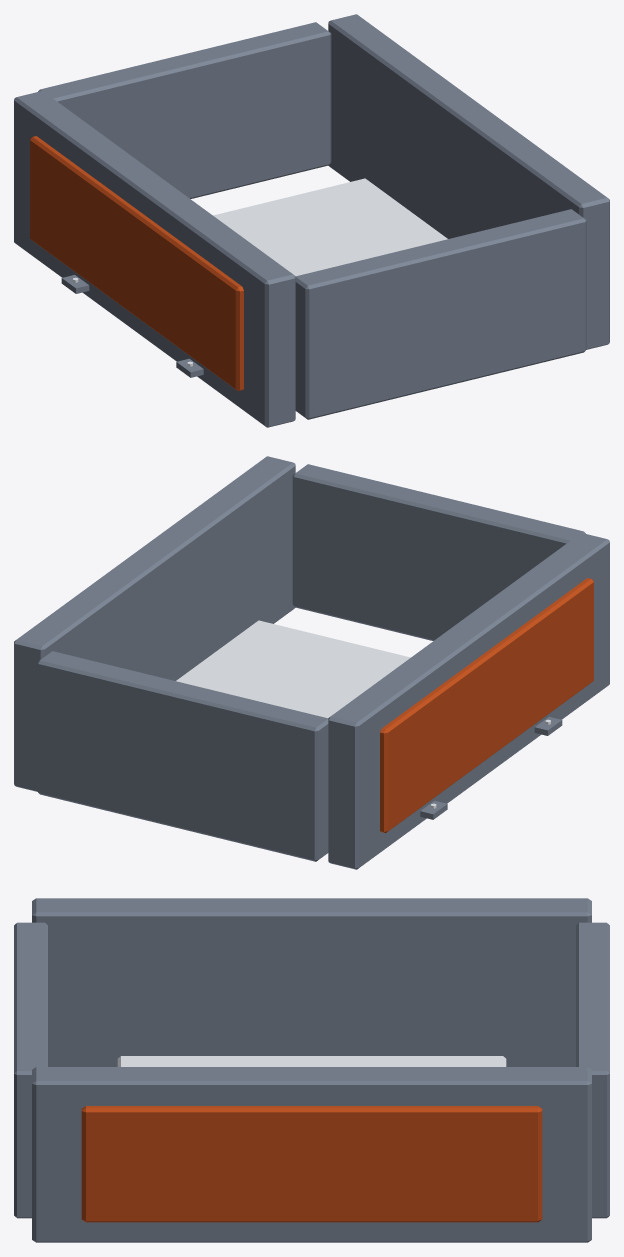
File: Shield_Heavy.glb
3 views of the same model, one above another, from view 1: azimuth 30°, elevation 25°; view 2: azimuth 150°, elevation 25°; view 3: azimuth 270°, elevation 25° (orthographic). The views are drawn at different scales.
Visible parts, largest first — view 1: Shield_Heavy; view 2: Shield_Heavy; view 3: Shield_Heavy.
Boxes of the visible parts, left/top/right/bottom form: Shield_Heavy: left=14, top=14, right=609, bottom=427; Shield_Heavy: left=14, top=456, right=609, bottom=869; Shield_Heavy: left=14, top=898, right=609, bottom=1242.
Bounding box in the file's own units: 1.76 × 0.685 × 2.27.
